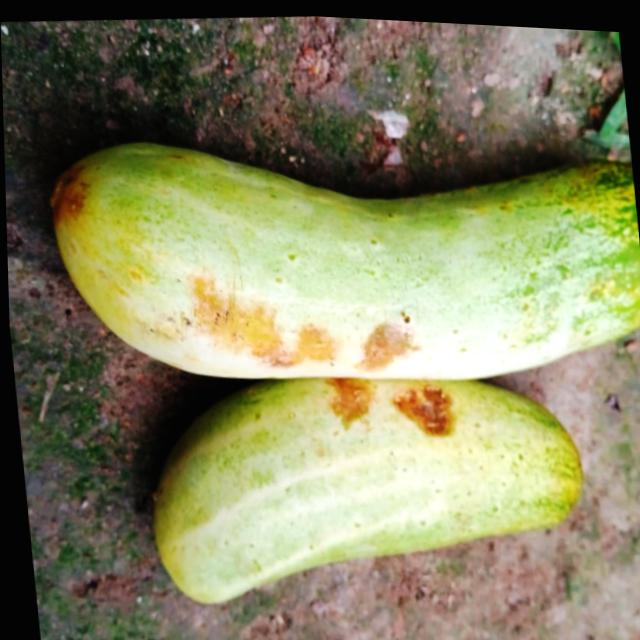Belly-Rot: (171, 256, 423, 387), (317, 366, 459, 448)
